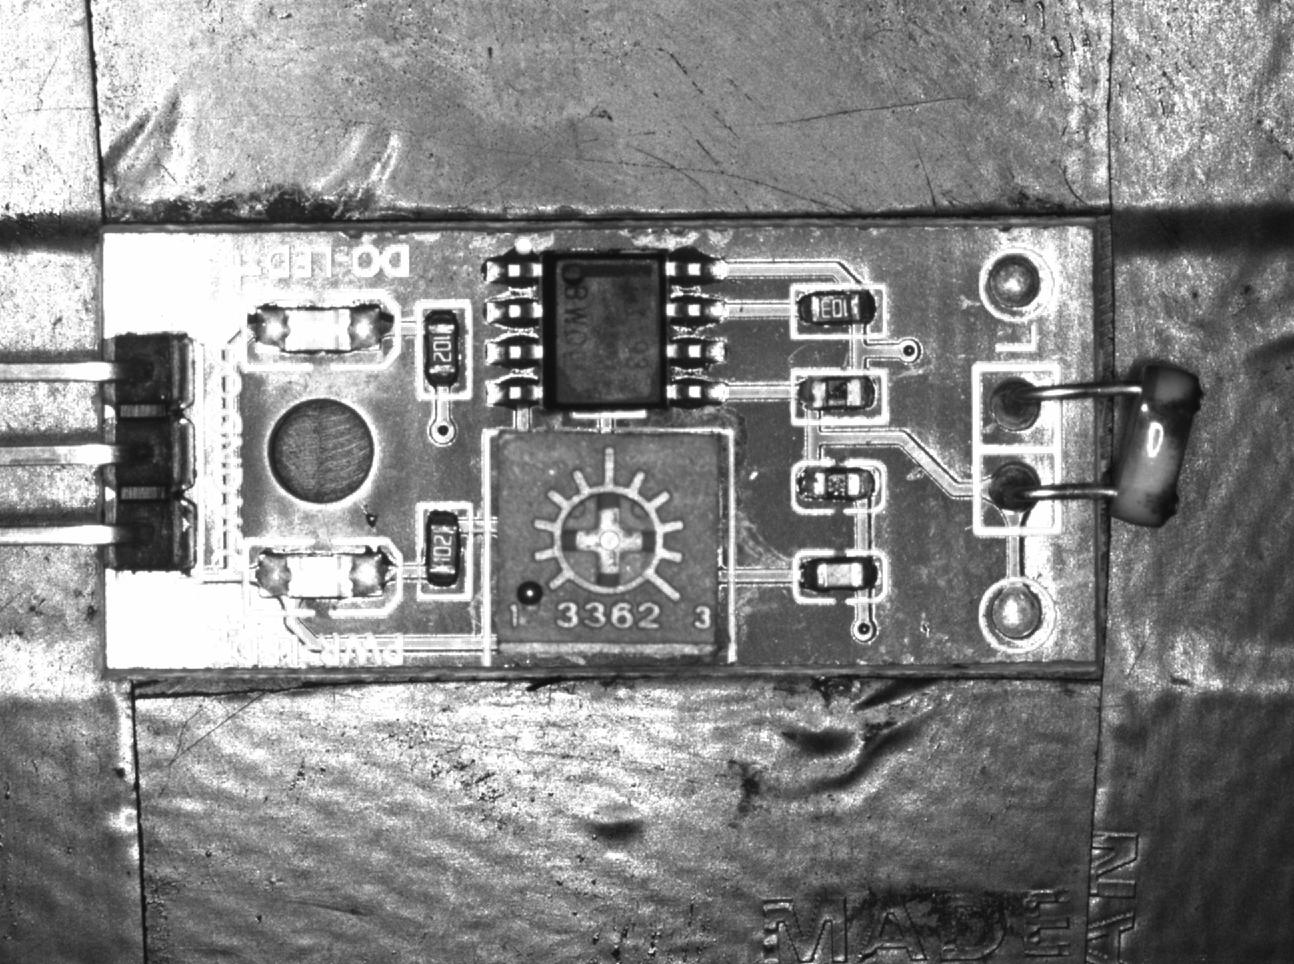miss: (795, 369, 888, 421), (794, 464, 885, 513)
ok: (411, 504, 475, 602), (418, 300, 470, 405), (796, 282, 888, 340), (796, 549, 889, 605)
